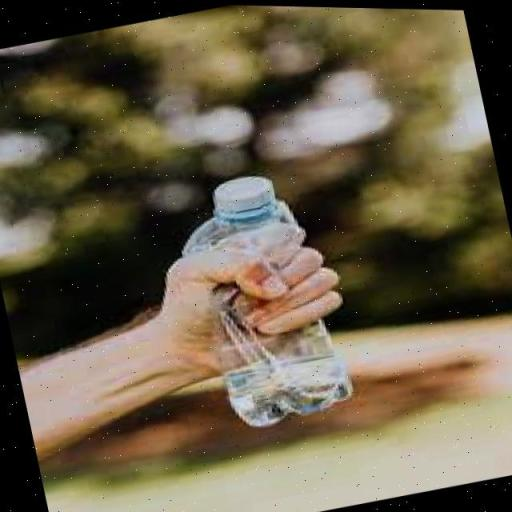plastic: (167, 158, 356, 438)
